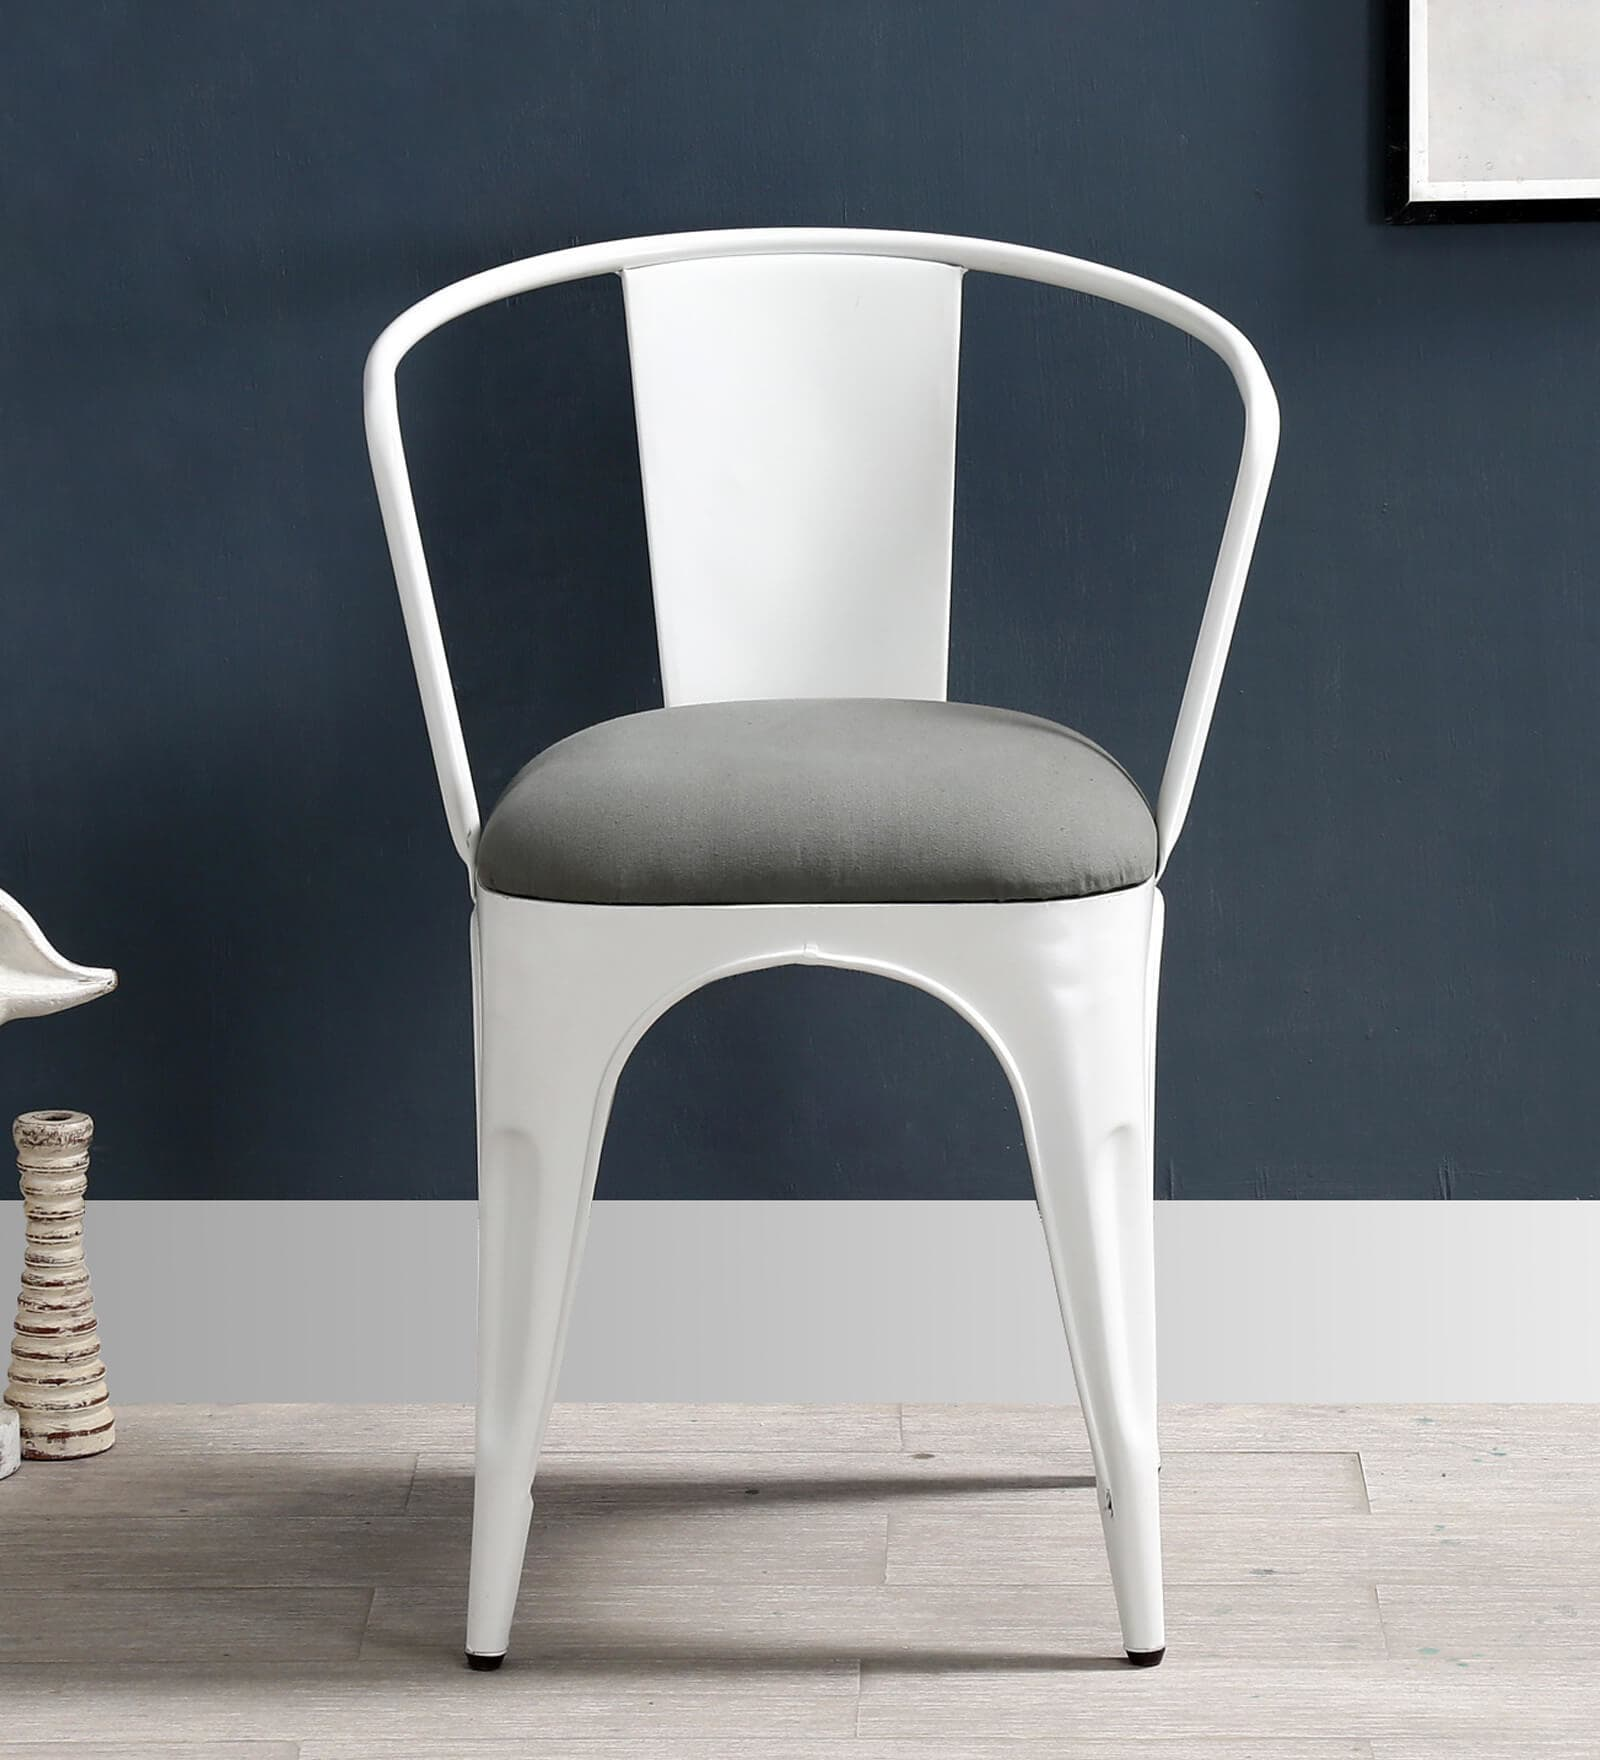Danlou Metal Chair with Cushion in White Colour by Bohemiana: (254, 186, 1320, 1760)
